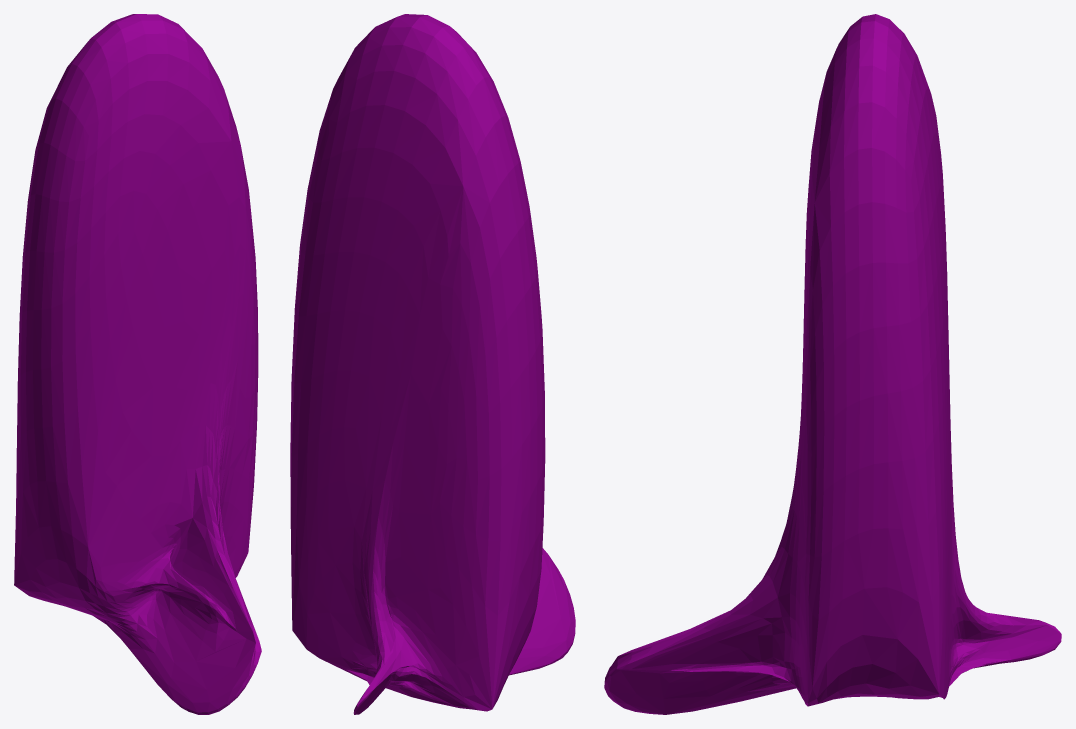
The picture shows the model from 3 angles, left to right: view 1: azimuth 30°, elevation 25°; view 2: azimuth 150°, elevation 25°; view 3: azimuth 270°, elevation 25°; orthographic projection. The views are drawn at different scales.
Parts seen in each view (by area): view 1: 808_Cube.3256; view 2: 808_Cube.3256; view 3: 808_Cube.3256.
Boxes of the visible parts, box(x1,y1,x2,y2) form: 808_Cube.3256: box(14, 14, 261, 714); 808_Cube.3256: box(290, 14, 575, 714); 808_Cube.3256: box(604, 14, 1061, 714).
Size of the model in its own units: 4.29 by 12.11 by 7.03.
